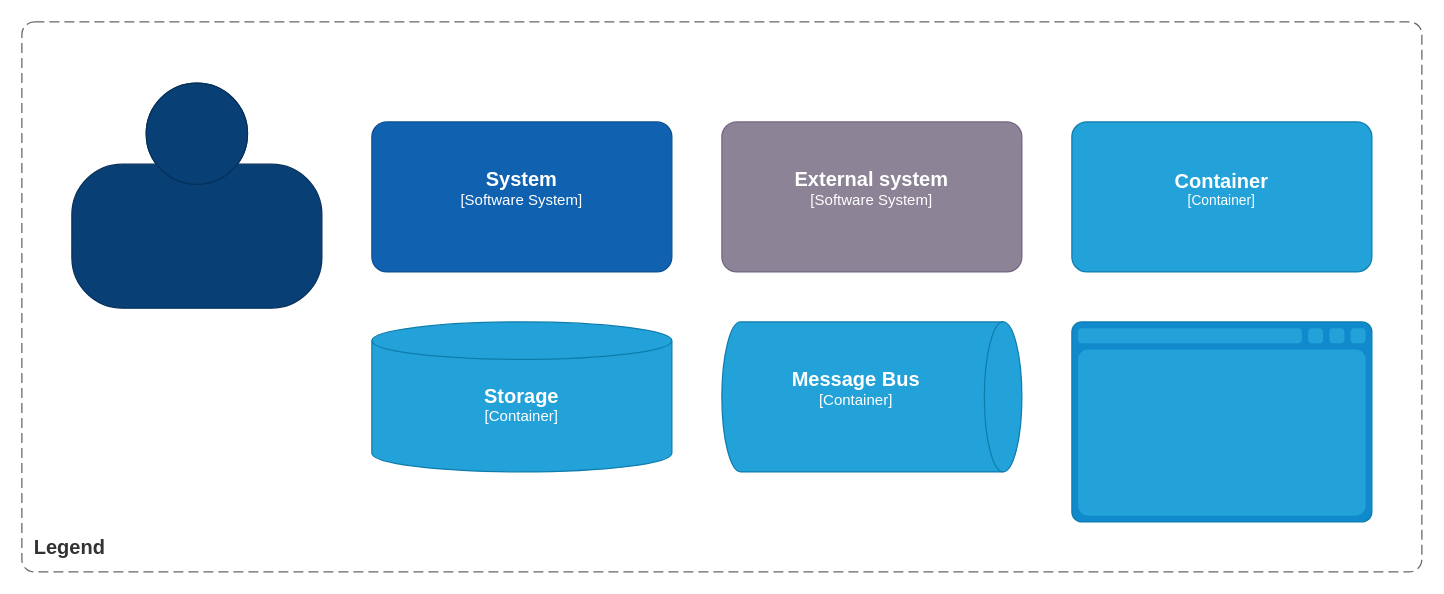
The diagram is 1444 pixels wide and 594 high, and some of its shapes have lost their labels. Each missing label, with the centre of its shape:
Person [Person]: pixel 196 195
Web browser container [Container]: pixel 1221 421
